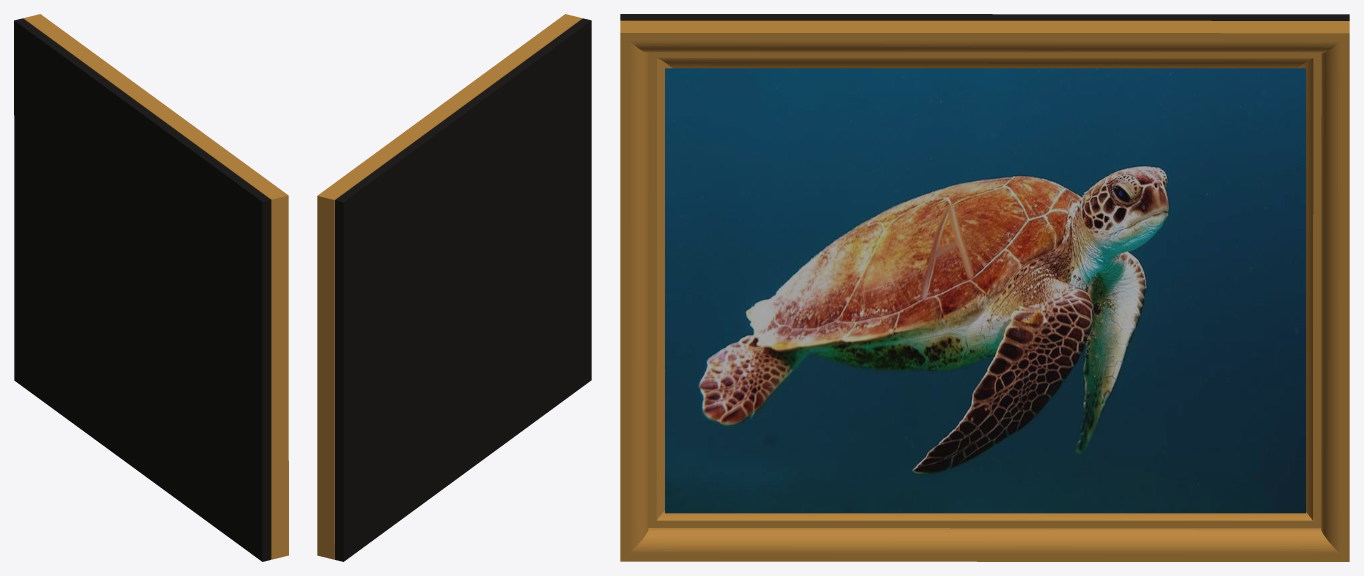
The picture shows the model from 3 angles, left to right: view 1: azimuth 30°, elevation 25°; view 2: azimuth 150°, elevation 25°; view 3: azimuth 270°, elevation 25°; orthographic projection. The views are drawn at different scales.
Parts seen in each view (by area): view 1: frame.001_3.001, back panel.001_2.001; view 2: frame.001_3.001, back panel.001_2.001; view 3: frame.001_3.001, back panel.001_2.001.
Part boxes in pixels (bbox=[...]): frame.001_3.001: bbox=[14, 18, 270, 561]; back panel.001_2.001: bbox=[23, 14, 288, 559]; frame.001_3.001: bbox=[335, 18, 591, 561]; back panel.001_2.001: bbox=[317, 14, 582, 559]; frame.001_3.001: bbox=[620, 14, 1349, 513]; back panel.001_2.001: bbox=[620, 20, 1349, 561].
Size of the model in its own units: 1.05 by 13.7 by 17.12.
3 materials, 1 textured.
